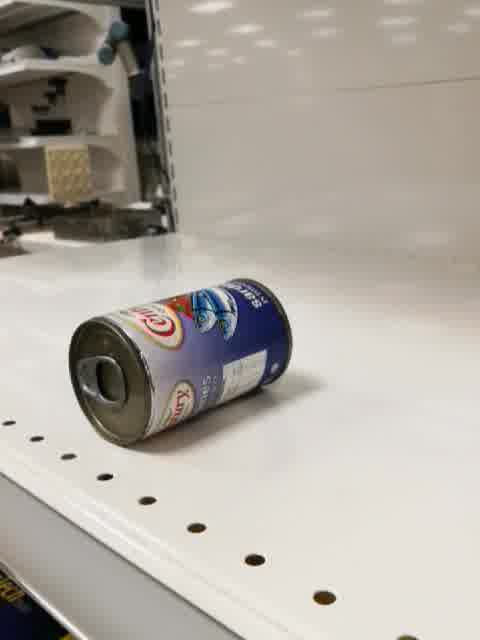sardine: (68, 279, 292, 446)
